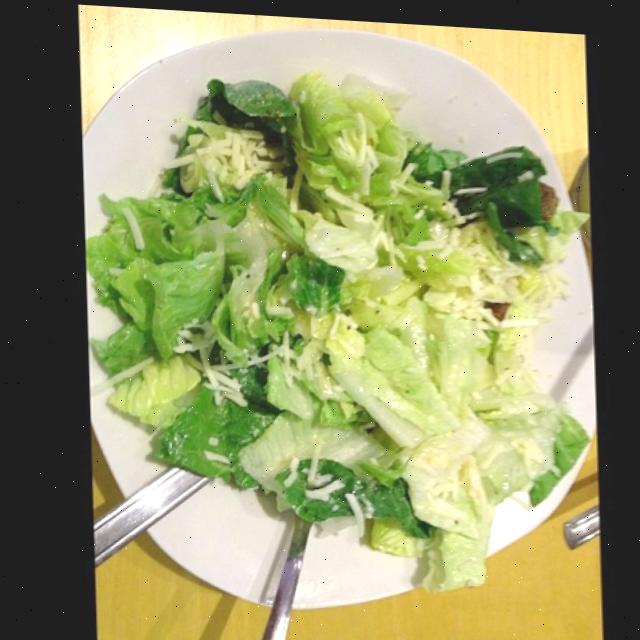蔬菜料理: (84, 17, 588, 615)
